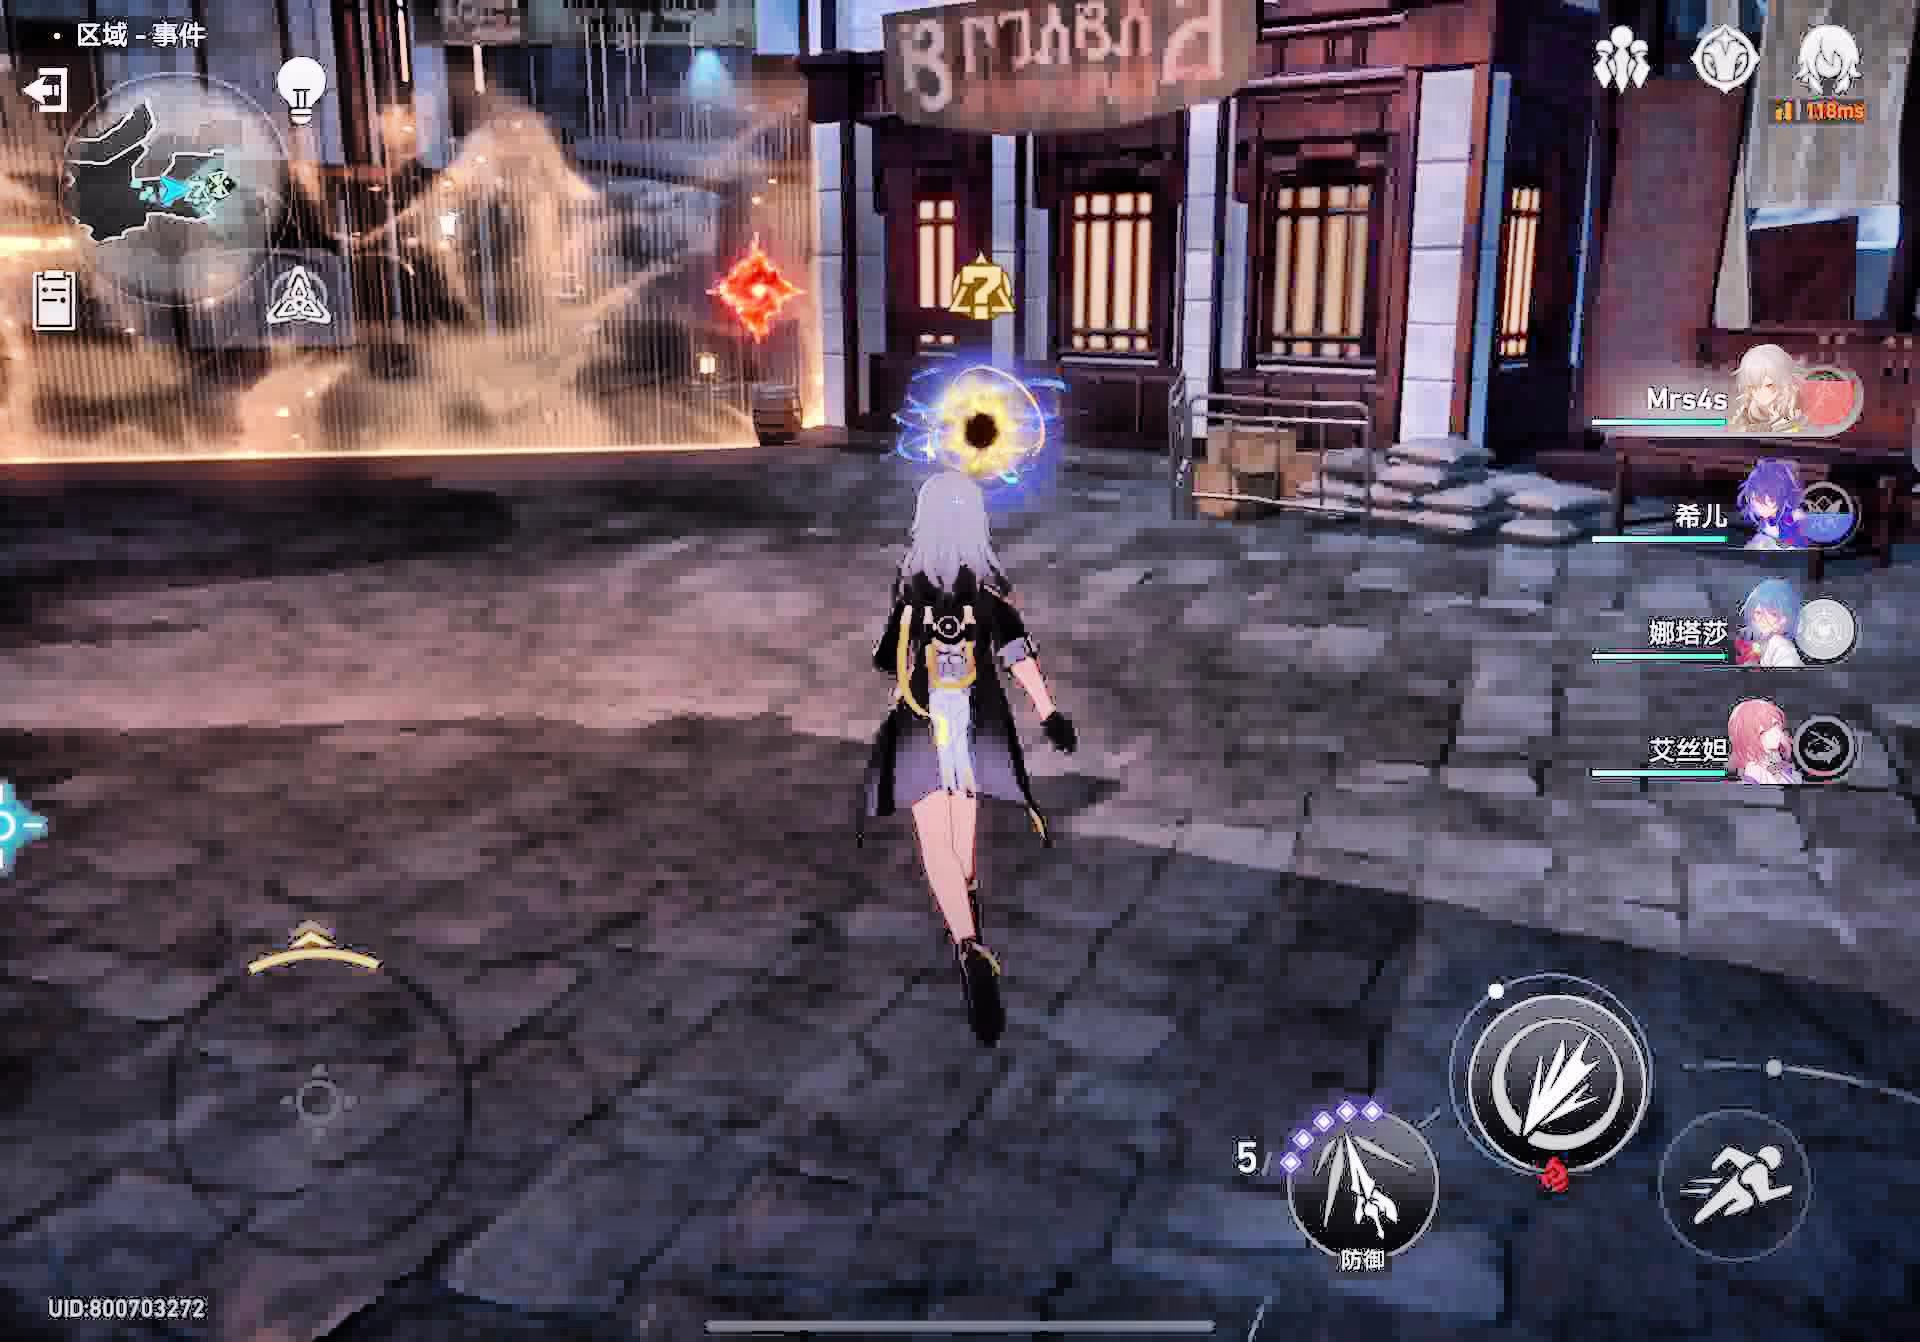BattleDoor: (696, 232, 810, 360)
EventStar: (905, 365, 1055, 500)
Self: (864, 473, 1074, 1047)
